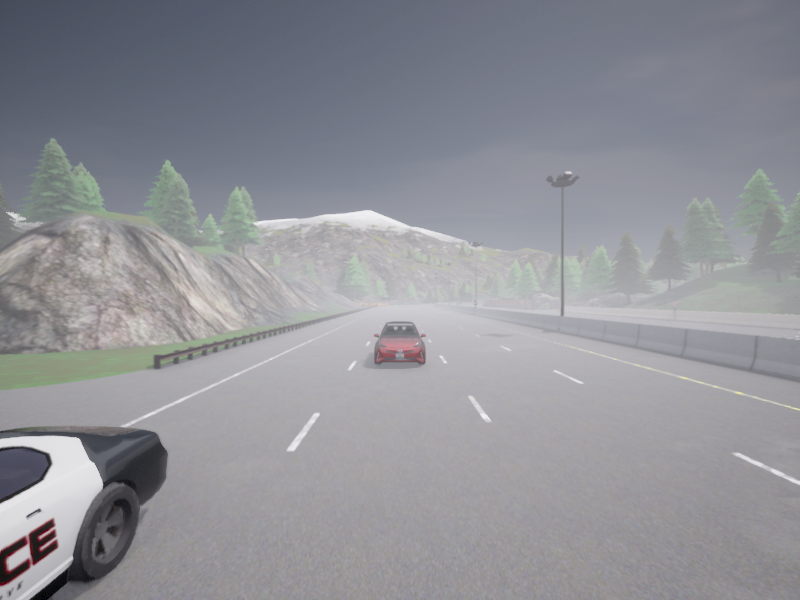vehicle: (0, 426, 167, 599), (374, 321, 425, 364), (476, 300, 482, 303), (474, 302, 479, 304), (456, 302, 458, 305), (459, 302, 462, 304)
